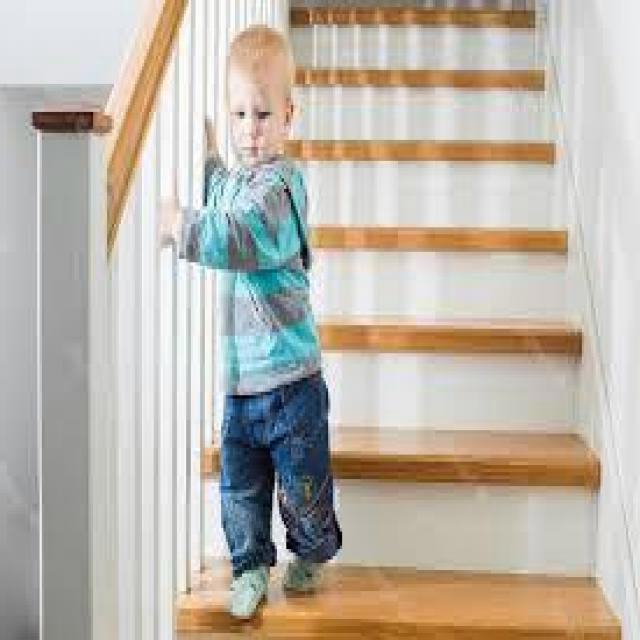child: (158, 24, 335, 626)
